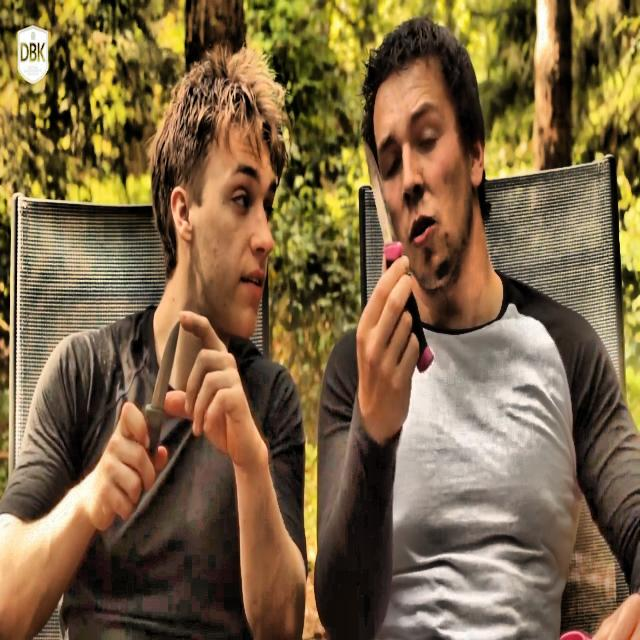knife: (362, 138, 432, 372), (144, 318, 182, 466)
